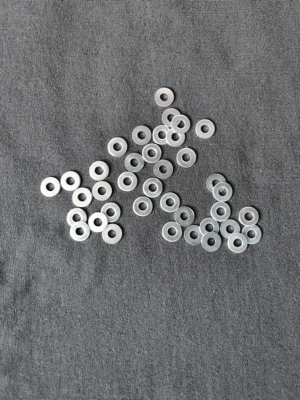circle: (107, 135, 129, 160), (40, 176, 61, 201), (227, 231, 249, 254), (199, 216, 221, 239), (241, 223, 262, 247), (153, 87, 177, 108), (175, 147, 197, 169), (174, 205, 196, 227), (132, 125, 154, 147), (212, 182, 235, 203), (183, 224, 204, 247), (152, 160, 175, 181), (99, 203, 122, 224), (142, 177, 163, 199), (142, 143, 164, 164), (89, 160, 110, 182), (101, 224, 123, 245), (88, 212, 109, 234), (69, 221, 90, 243), (61, 170, 82, 192), (195, 119, 216, 140), (206, 173, 227, 194), (221, 220, 242, 241), (162, 222, 183, 243), (117, 170, 138, 191), (210, 202, 232, 222), (92, 181, 114, 201), (161, 193, 181, 214), (133, 197, 153, 218), (172, 114, 192, 135), (168, 127, 188, 148), (152, 126, 172, 147), (125, 153, 146, 173), (66, 208, 87, 228), (72, 187, 92, 208), (162, 108, 182, 128), (240, 207, 259, 228), (202, 233, 221, 253)
